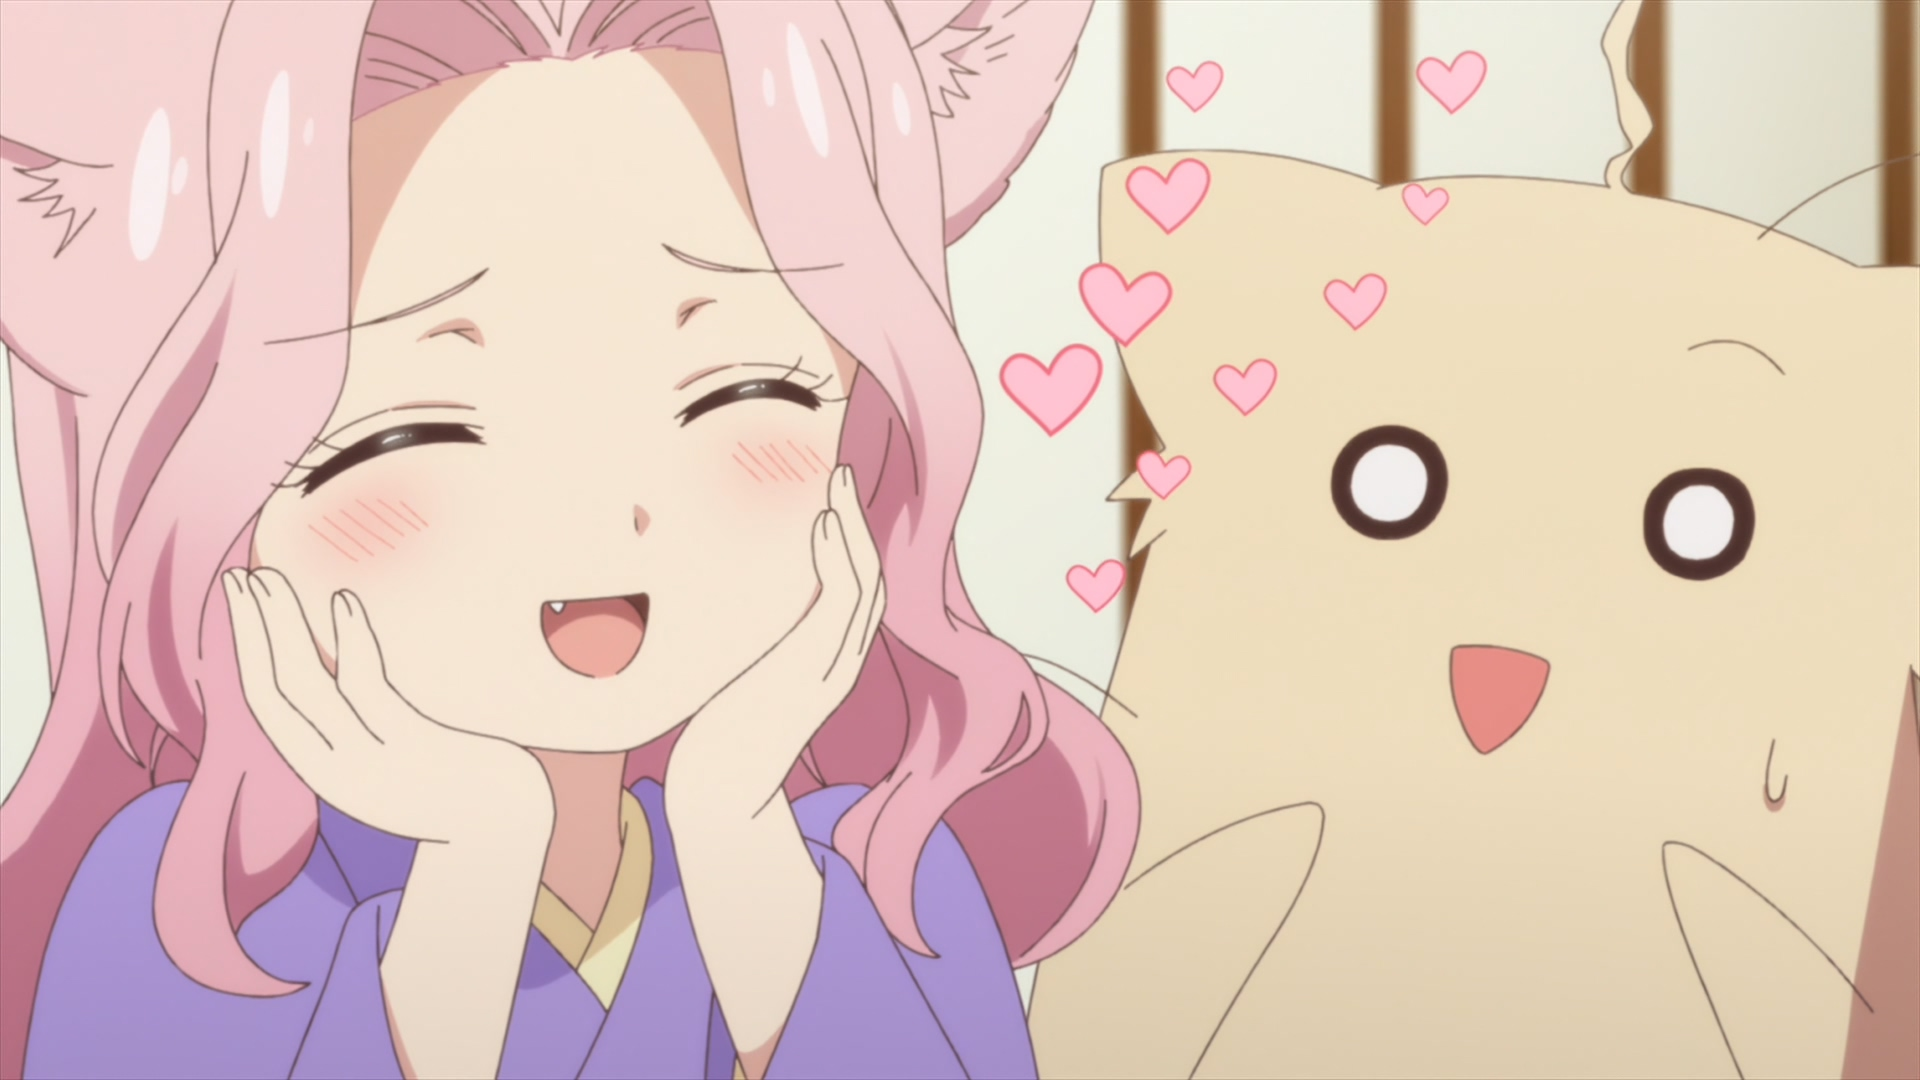柚: (1026, 1, 1920, 1080)
莲: (1, 1, 1141, 1080)
